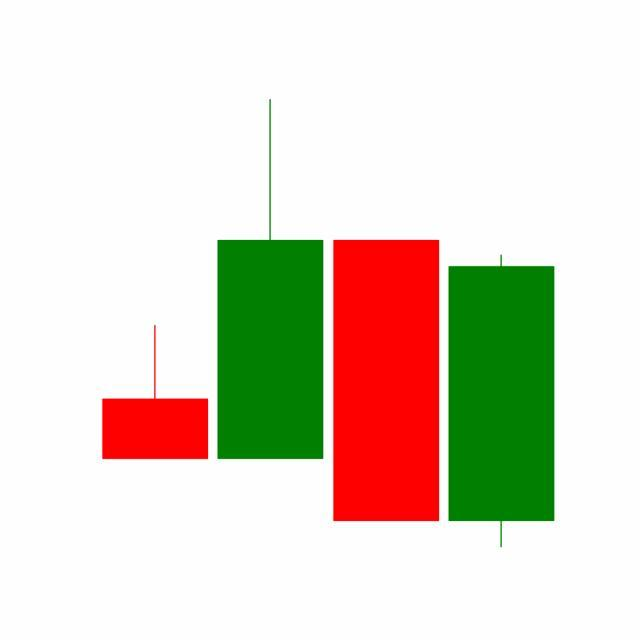Marubozu: (329, 238, 445, 524)
